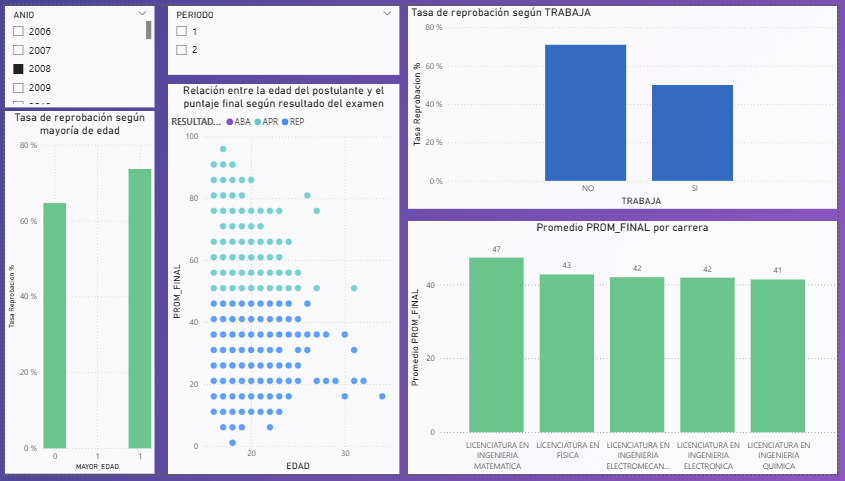

This screenshot's page, from the dashboard's own definition file:
{"tool":"powerbi","page":{"name":"Perfil-Dashboard2","canvas":[1280,720],"ordinal":1},"visuals":[{"type":"scatterChart","title":"Relación entre la edad del postulante y el puntaje final según resultado del examen","fields":{"X":["Df_Postulantes.EDAD"],"Y":["Df_Postulantes.PROM_FINAL"],"Series":["Df_Postulantes.RESULTADO_FINAL"]},"box":[250,120,356,600],"z":0},{"type":"clusteredColumnChart","title":"Tasa de reprobación según TRABAJA","fields":{"Category":["Df_Postulantes.TRABAJA"],"Y":["Df_Postulantes.Tasa Reprobacion %"]},"box":[620,0,660,312],"z":1000},{"type":"clusteredColumnChart","title":"Tasa de reprobación según mayoría de edad","fields":{"Category":["Df_Postulantes.MAYOR_EDAD"],"Y":["Df_Postulantes.Tasa Reprobacion %"]},"box":[0,162,230,558],"z":2000},{"type":"clusteredColumnChart","title":"Promedio PROM_FINAL por  carrera","fields":{"Y":["Df_Postulantes.Promedio PROM_FINAL"],"Category":["Df_Postulantes.NOMBRE_PLAN"]},"box":[620,330,660,390],"z":3000},{"type":"slicer","fields":{"Values":["Df_Postulantes.ANIO"]},"box":[0,0,230,156],"z":4000},{"type":"slicer","fields":{"Values":["Df_Postulantes.PERIODO"]},"box":[250,0,356,106],"z":5000}]}

Visuals, with their boxes in screenshot pixels (x1, y1, x2, y2), scaled from the page's 1280x720 canvas onto the 845x481 screenshot:
"Relación entre la edad del postulante y el puntaje final según resultado del examen" scatterChart: [165, 80, 400, 480]
"Tasa de reprobación según TRABAJA" clusteredColumnChart: [409, 0, 844, 208]
"Tasa de reprobación según mayoría de edad" clusteredColumnChart: [0, 108, 152, 480]
"Promedio PROM_FINAL por  carrera" clusteredColumnChart: [409, 220, 844, 480]
slicer - Df_Postulantes.ANIO: [0, 0, 152, 104]
slicer - Df_Postulantes.PERIODO: [165, 0, 400, 71]
